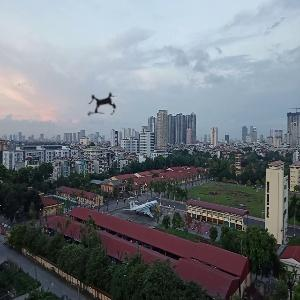drone: (78, 80, 130, 132)
